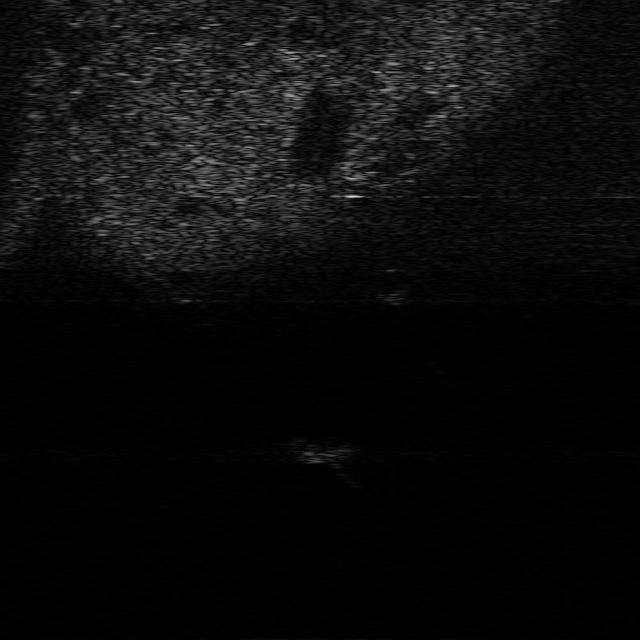ball: (374, 266, 410, 304)
cube: (282, 434, 358, 464)
